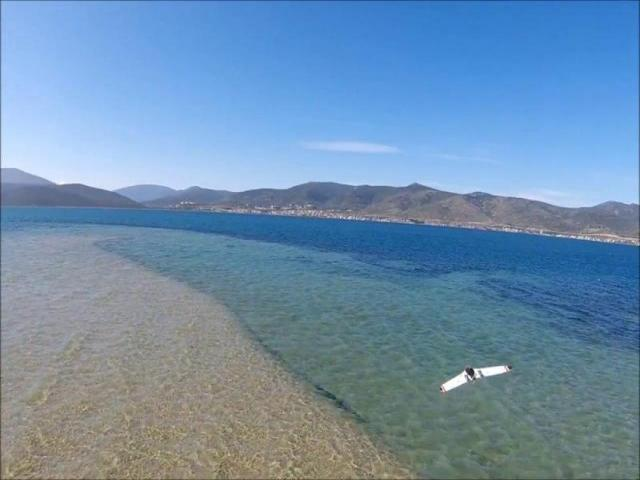hedef: (434, 341, 524, 412)
